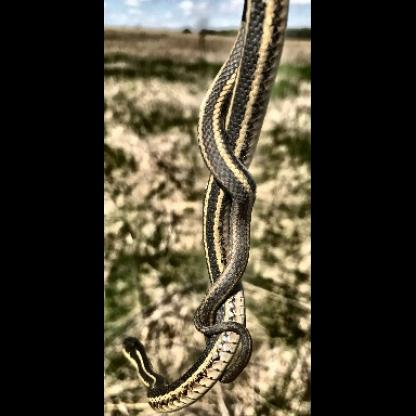Snake: (115, 4, 287, 416)
